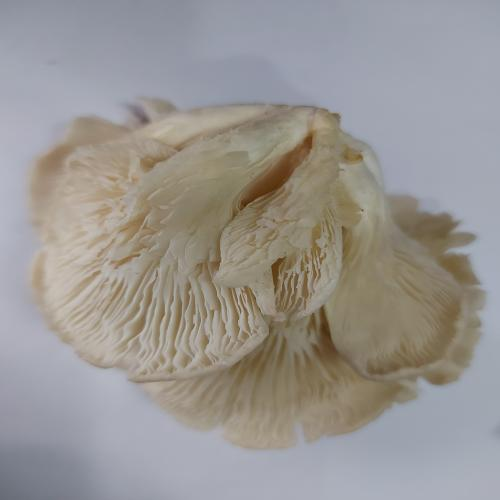Oyster Mushroom: (28, 97, 486, 449)
